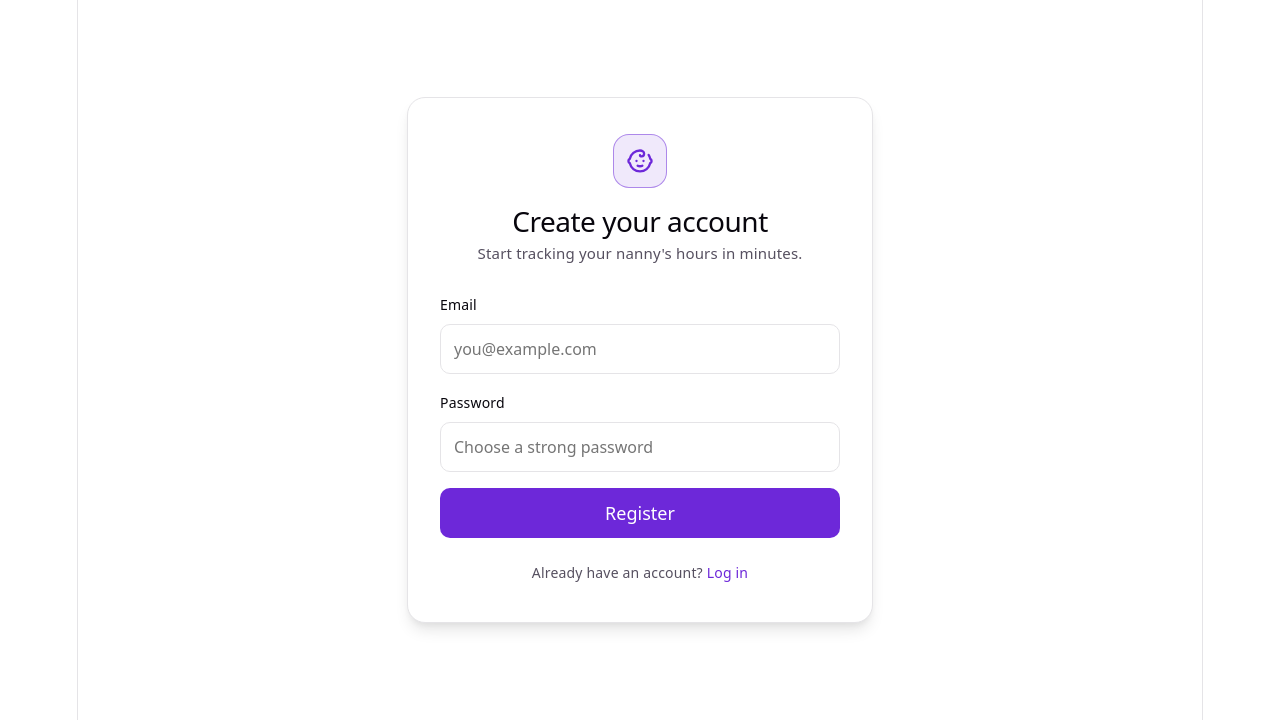
RegisterPage › lists every field error when the API returns several
In the field labelled "Email": (640, 349) [440, 324, 840, 374], type "taken@example.com"
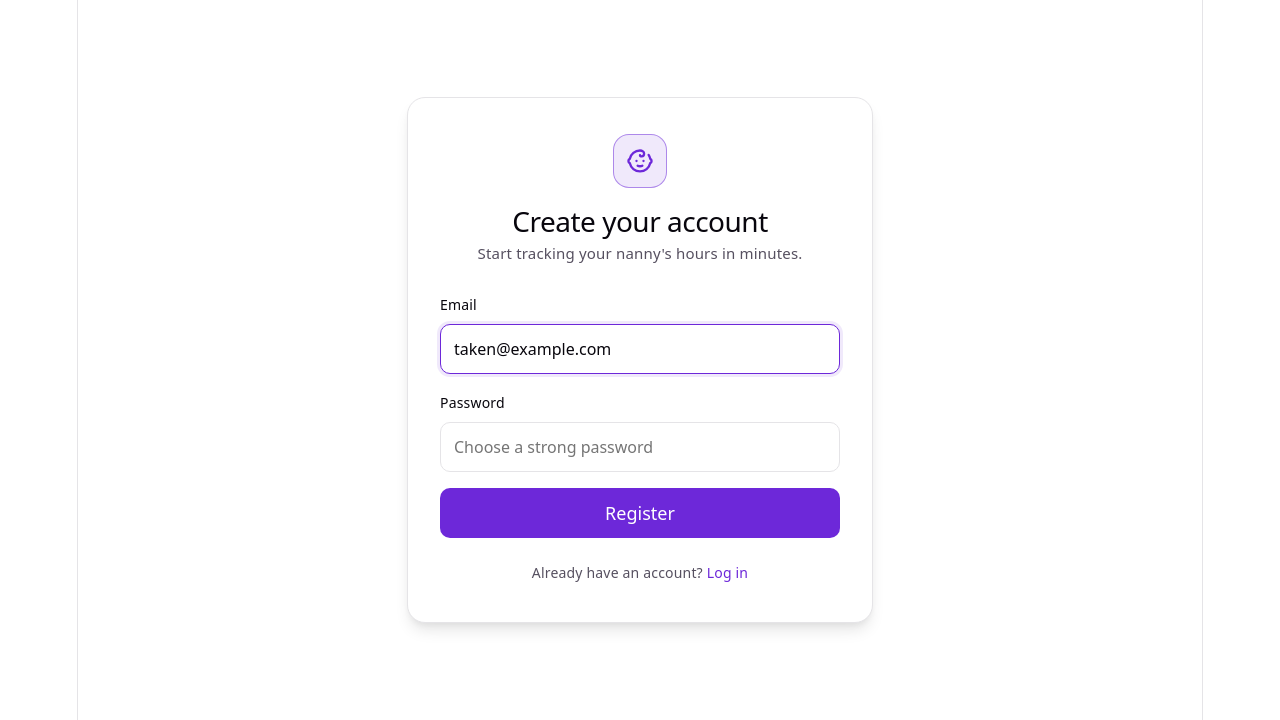
In the password field labelled "Password": (640, 447) [440, 422, 840, 472], type "123"
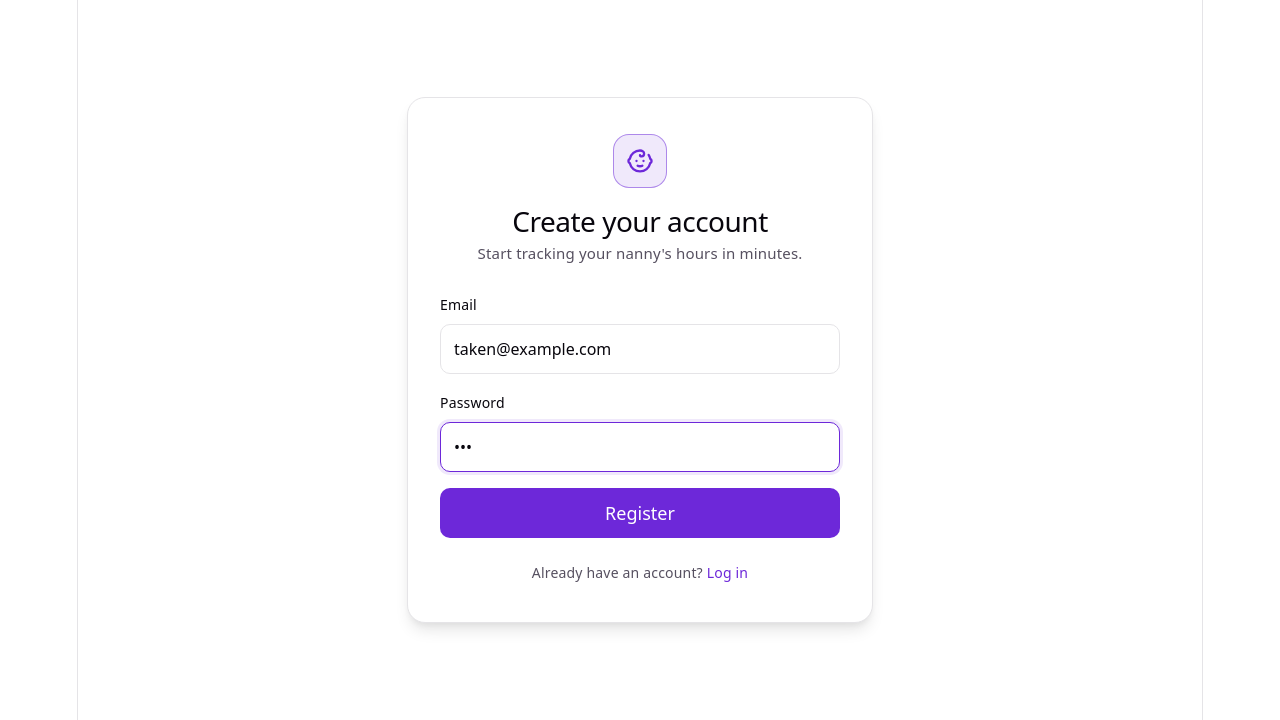
Click the button "Register": (640, 513) [440, 488, 840, 538]
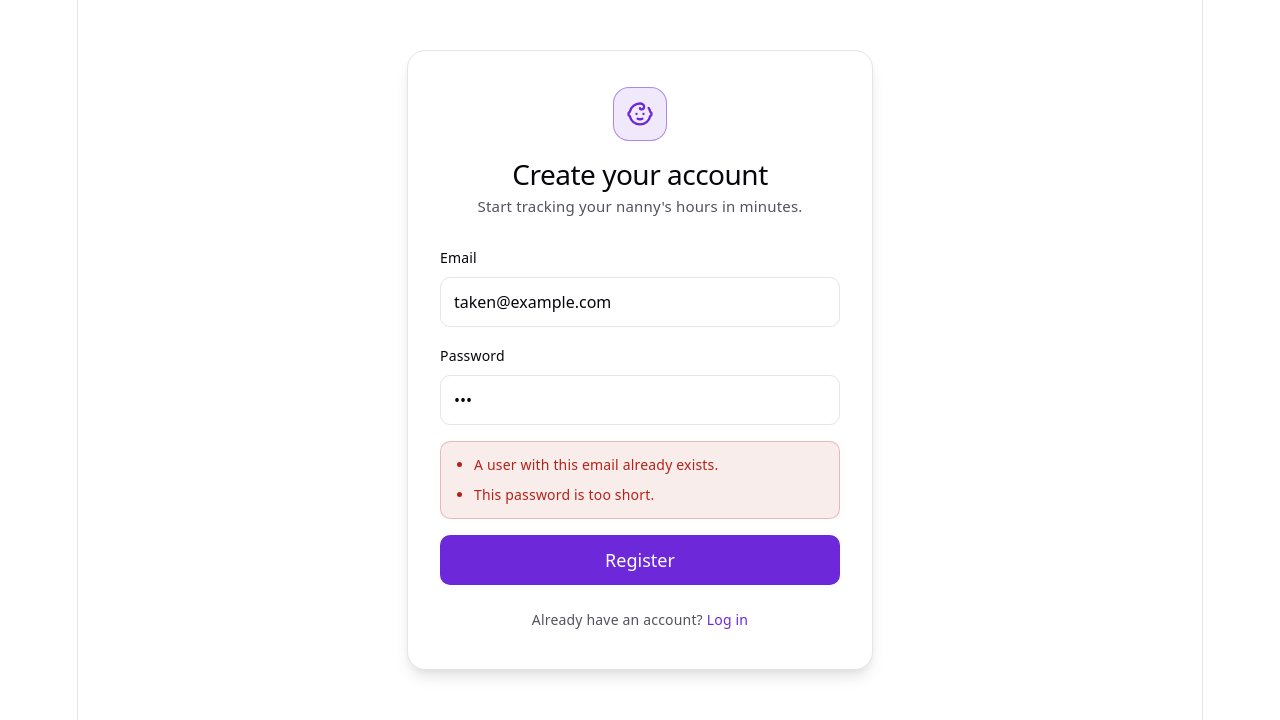
Now the number of list items is 2, box [474, 455, 718, 474]; [474, 485, 654, 504]
Now the list item "A user with this email already exists." is shown, box [474, 455, 718, 474]
Now the list item "This password is too short." is shown, box [474, 485, 654, 504]
